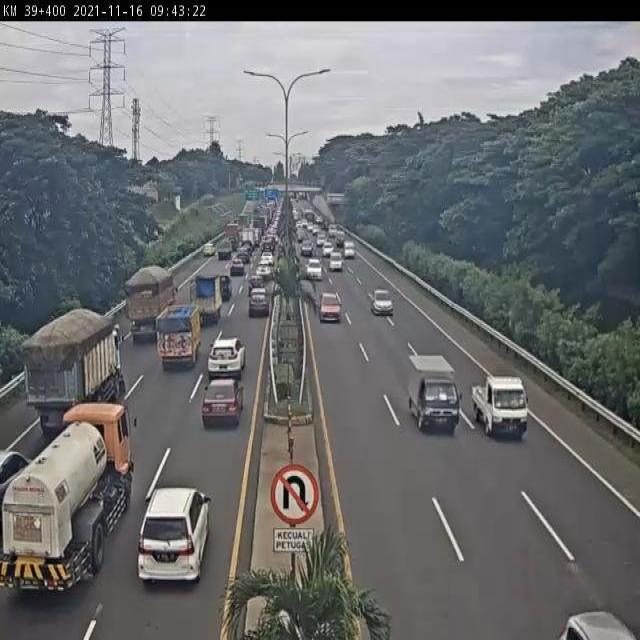car: (134, 483, 211, 588), (407, 354, 464, 442), (472, 368, 530, 441), (205, 335, 246, 392), (203, 373, 243, 427), (317, 288, 341, 321), (247, 289, 267, 327), (370, 292, 393, 321), (215, 268, 231, 304), (247, 278, 262, 306), (229, 252, 244, 279), (200, 238, 216, 258), (253, 269, 265, 292), (260, 253, 271, 271), (308, 258, 318, 274)
small truck: (155, 293, 200, 372), (183, 272, 220, 333)
truck-m-: (0, 398, 142, 602), (26, 306, 127, 431), (125, 260, 170, 331)
